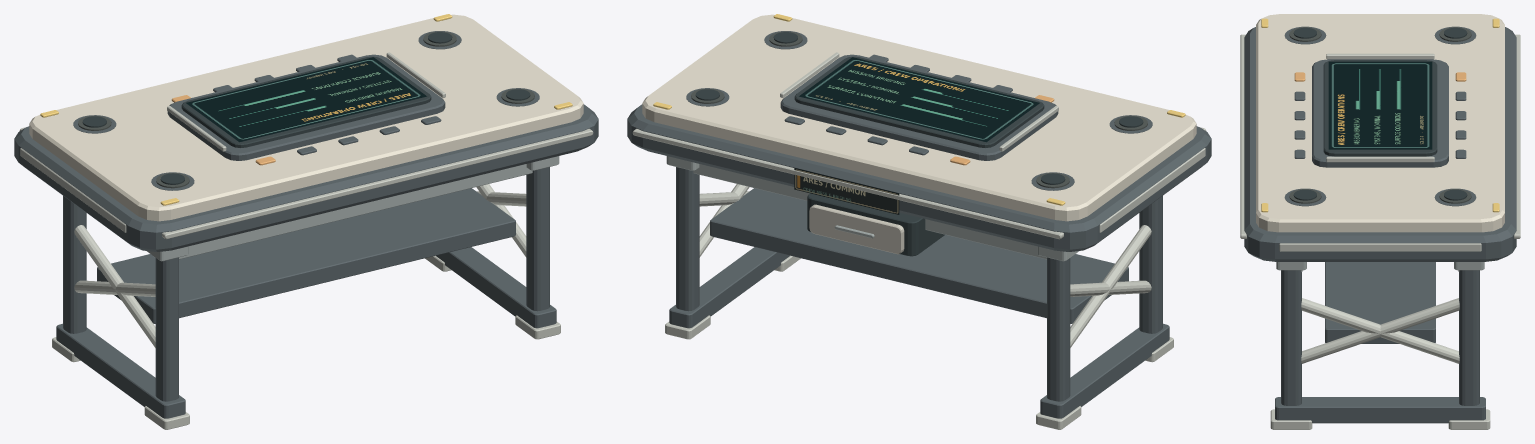
The model's file is common_table_retro.glb.
3 views of the same model, side by side, from view 1: azimuth 30°, elevation 25°; view 2: azimuth 150°, elevation 25°; view 3: azimuth 270°, elevation 25° (orthographic). The views are drawn at different scales.
Visible parts, largest first — view 1: static_graphite__graphite, static_cream__cream, Planning_Display_00, static_satinsteel__satinsteel, static_steel__steel, Table_Planning_Console__graphite, Table_Planning_Console__blackglass, Cup_Retainers__graphite, Cup_Retainers__deep, Cup_Retainers__rubber, Table_Planning_Console__satinsteel, Table_Controls__graphite; view 2: static_graphite__graphite, static_cream__cream, Planning_Display_00, static_satinsteel__satinsteel, Table_Planning_Console__graphite, static_steel__steel, Under_Table_Storage__bone, Table_Planning_Console__blackglass, Under_Table_Storage__deep, ARES / COMMON_01, Cup_Retainers__graphite, Cup_Retainers__deep (+3 smaller); view 3: static_cream__cream, static_graphite__graphite, Planning_Display_00, static_satinsteel__satinsteel, Table_Planning_Console__graphite, Table_Planning_Console__blackglass, Table_Planning_Console__satinsteel, Cup_Retainers__graphite, Cup_Retainers__deep, Table_Controls__graphite, Cup_Retainers__rubber, static_steel__steel (+1 smaller).
Boxes of the visible parts, <box> form: static_graphite__graphite: <box>14,104,598,418</box>; static_cream__cream: <box>29,14,583,221</box>; Planning_Display_00: <box>186,57,426,142</box>; static_satinsteel__satinsteel: <box>19,127,593,429</box>; static_steel__steel: <box>147,156,559,261</box>; Table_Planning_Console__graphite: <box>167,54,445,160</box>; Table_Planning_Console__blackglass: <box>181,56,431,147</box>; Cup_Retainers__graphite: <box>73,31,539,190</box>; Cup_Retainers__deep: <box>82,32,530,184</box>; Cup_Retainers__rubber: <box>78,31,534,188</box>; Table_Planning_Console__satinsteel: <box>167,52,445,151</box>; Table_Controls__graphite: <box>213,54,441,155</box>; static_graphite__graphite: <box>627,104,1211,418</box>; static_cream__cream: <box>642,14,1196,221</box>; Planning_Display_00: <box>799,57,1039,142</box>; static_satinsteel__satinsteel: <box>632,127,1206,429</box>; Table_Planning_Console__graphite: <box>780,54,1058,160</box>; static_steel__steel: <box>666,156,1078,261</box>; Under_Table_Storage__bone: <box>809,204,904,254</box>; Table_Planning_Console__blackglass: <box>794,56,1044,147</box>; Under_Table_Storage__deep: <box>807,193,944,256</box>; ARES / COMMON_01: <box>794,168,899,214</box>; Cup_Retainers__graphite: <box>686,31,1152,190</box>; Cup_Retainers__deep: <box>695,32,1143,184</box>; static_cream__cream: <box>1256,14,1504,232</box>; static_graphite__graphite: <box>1244,27,1516,423</box>; Planning_Display_00: <box>1328,61,1432,149</box>; static_satinsteel__satinsteel: <box>1240,34,1520,429</box>; Table_Planning_Console__graphite: <box>1312,59,1448,167</box>; Table_Planning_Console__blackglass: <box>1323,60,1437,156</box>; Table_Planning_Console__satinsteel: <box>1326,53,1434,162</box>; Cup_Retainers__graphite: <box>1284,26,1476,206</box>; Cup_Retainers__deep: <box>1293,27,1467,200</box>; Table_Controls__graphite: <box>1294,91,1466,158</box>; Cup_Retainers__rubber: <box>1289,27,1471,203</box>; static_steel__steel: <box>1276,262,1484,271</box>.
Bounding box in the file's own units: 1.87 × 0.919 × 1.01.
12 materials, 2 textured.
